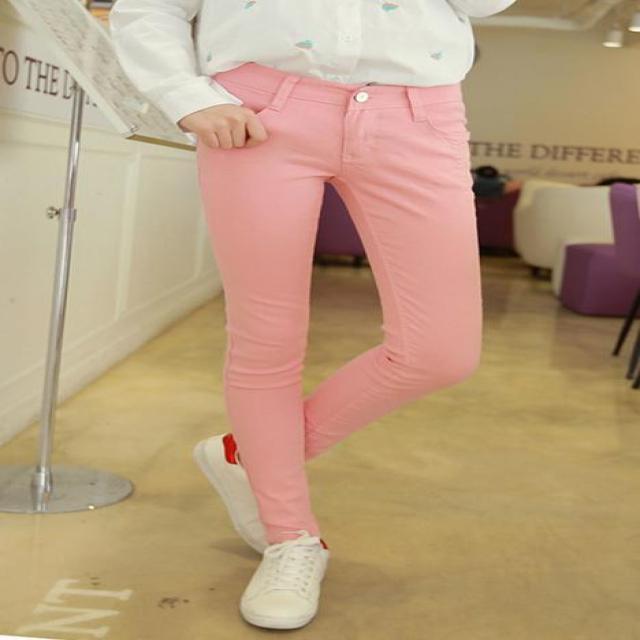long sleeve top: (201, 1, 462, 83), (114, 2, 238, 124)
trousers: (206, 59, 480, 545)
